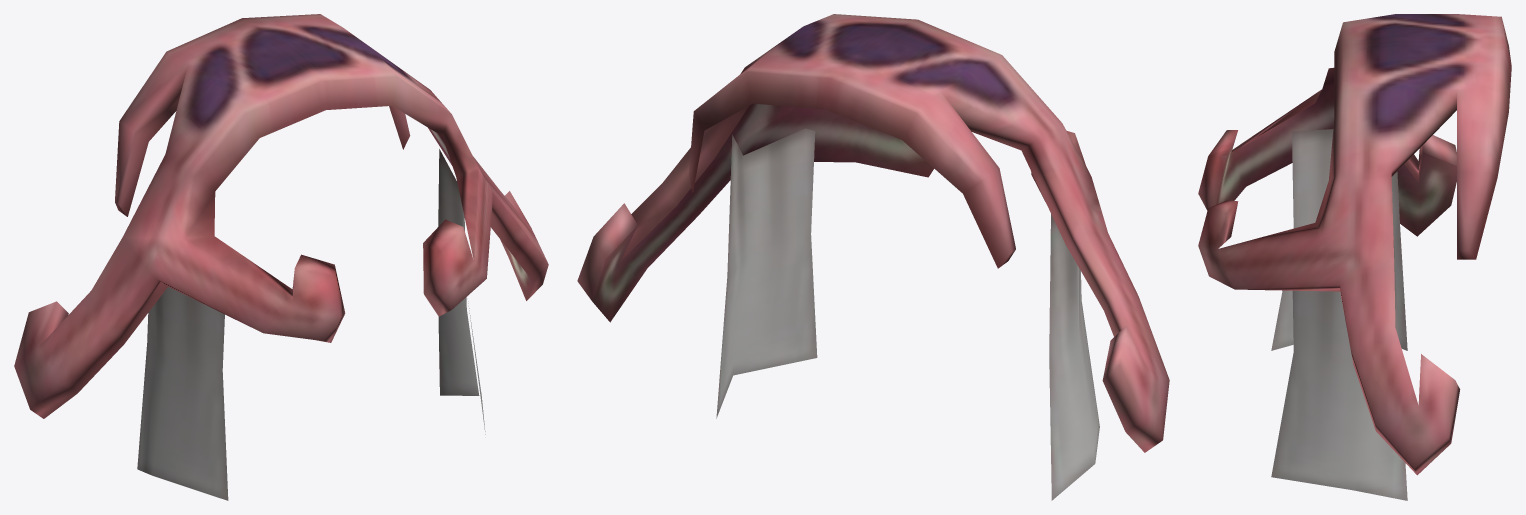
The model's file is dreamBand.glb.
3 views of the same model, side by side, from view 1: azimuth 30°, elevation 25°; view 2: azimuth 150°, elevation 25°; view 3: azimuth 270°, elevation 25° (orthographic). The views are drawn at different scales.
Parts seen in each view (by area): view 1: dreamBand; view 2: dreamBand; view 3: dreamBand.
Part boxes in pixels (<box>): dreamBand: <box>14,14,548,500</box>; dreamBand: <box>577,14,1169,500</box>; dreamBand: <box>1198,14,1511,500</box>.
Bounding box in the file's own units: 0.421 × 0.2994 × 0.2199.
Materials: 1 (1 with a texture image).
